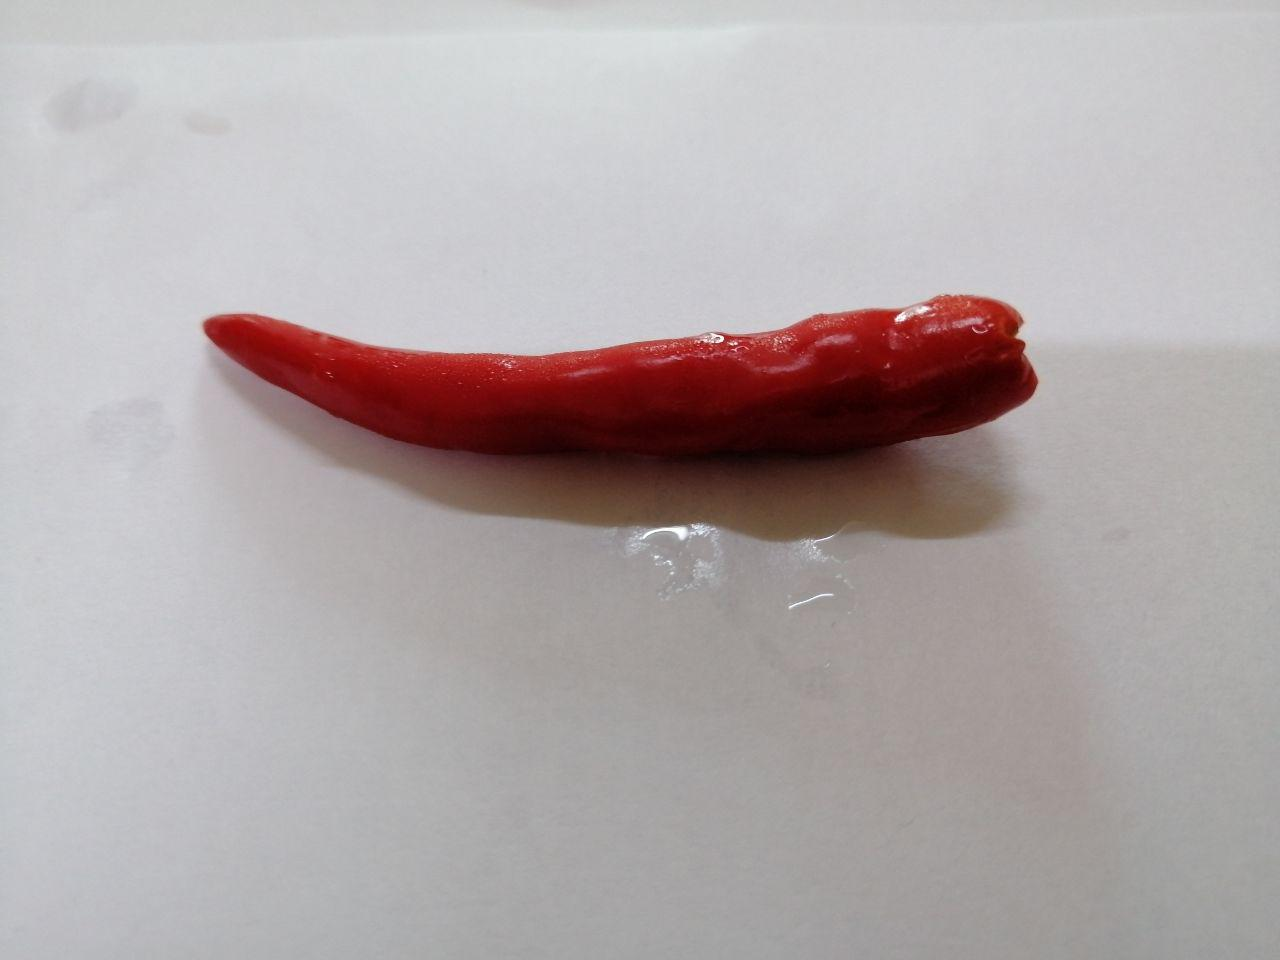lada merah: (191, 244, 1096, 564)
